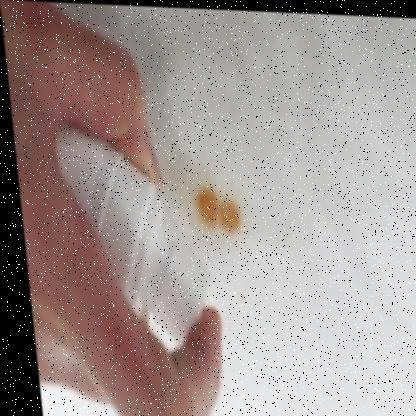kimchi: (199, 183, 240, 231)
